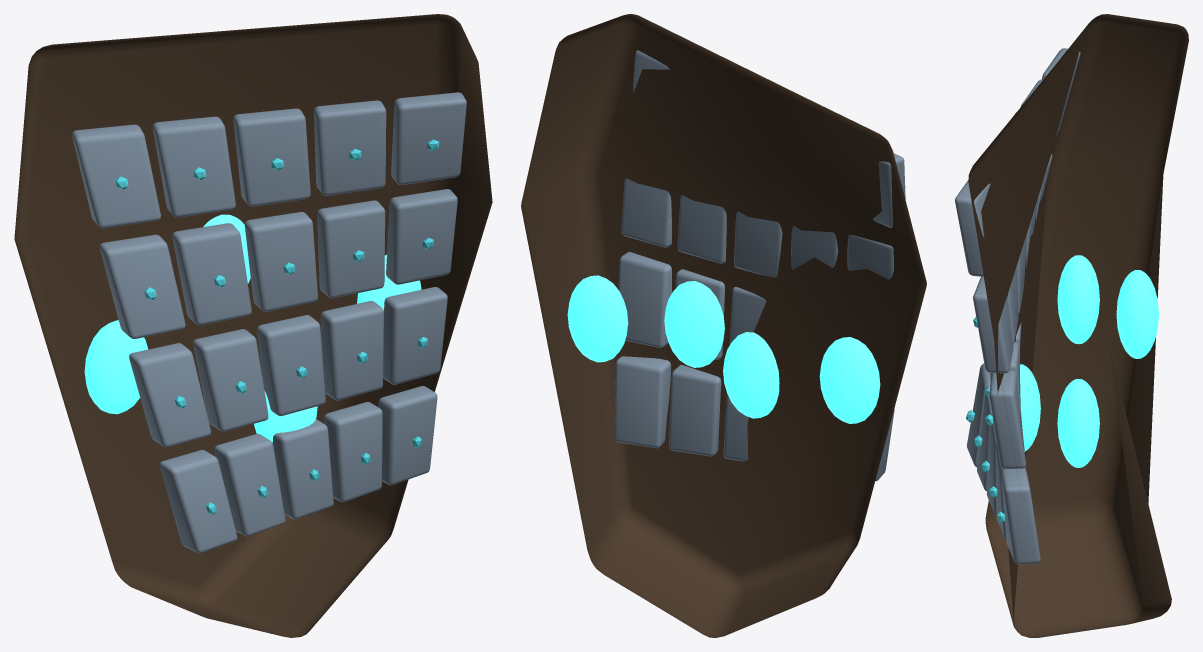
File: cuirass_v8.glb
3 views of the same model, side by side, from view 1: azimuth 30°, elevation 25°; view 2: azimuth 150°, elevation 25°; view 3: azimuth 270°, elevation 25° (orthographic). The views are drawn at different scales.
Parts seen in each view (by area): view 1: BRIGANDINE_BODY_SECONDARY, BRIGANDINE_PLATE_PRIMARY, BRIGANDINE_PLATE_PRIMARY.001, BRIGANDINE_PLATE_PRIMARY.002, BRIGANDINE_PLATE_PRIMARY.005, BRIGANDINE_PLATE_PRIMARY.003, BRIGANDINE_PLATE_PRIMARY.006, BRIGANDINE_PLATE_PRIMARY.004, BRIGANDINE_PLATE_PRIMARY.007, BRIGANDINE_PLATE_PRIMARY.008, BRIGANDINE_PLATE_PRIMARY.010, BRIGANDINE_PLATE_PRIMARY.011 (+12 smaller); view 2: BRIGANDINE_BODY_SECONDARY, BRIGANDINE_PLATE_PRIMARY.019, BRIGANDINE_PLATE_PRIMARY.018, ASCENDANT_GEM_EMISSIVE, ASCENDANT_GEM_EMISSIVE.001, ASCENDANT_GEM_EMISSIVE.002, BRIGANDINE_PLATE_PRIMARY.014, ASCENDANT_GEM_EMISSIVE.003, BRIGANDINE_PLATE_PRIMARY.009, BRIGANDINE_PLATE_PRIMARY.008, BRIGANDINE_PLATE_PRIMARY.007, BRIGANDINE_PLATE_PRIMARY.005 (+5 smaller); view 3: BRIGANDINE_BODY_SECONDARY, ASCENDANT_GEM_EMISSIVE.001, ASCENDANT_GEM_EMISSIVE, ASCENDANT_GEM_EMISSIVE.002, BRIGANDINE_PLATE_PRIMARY.019, BRIGANDINE_PLATE_PRIMARY.014, BRIGANDINE_PLATE_PRIMARY.009, BRIGANDINE_PLATE_PRIMARY.004, ASCENDANT_GEM_EMISSIVE.003, BRIGANDINE_PLATE_PRIMARY.015, BRIGANDINE_PLATE_PRIMARY.016, BRIGANDINE_PLATE_PRIMARY.017 (+5 smaller).
Boxes of the visible parts, x1,y1,x2,y2 form: BRIGANDINE_BODY_SECONDARY: (14,14,492,637); BRIGANDINE_PLATE_PRIMARY: (72,124,160,228); BRIGANDINE_PLATE_PRIMARY.001: (152,116,235,217); BRIGANDINE_PLATE_PRIMARY.002: (233,108,310,206); BRIGANDINE_PLATE_PRIMARY.005: (99,234,185,338); BRIGANDINE_PLATE_PRIMARY.003: (313,100,386,195); BRIGANDINE_PLATE_PRIMARY.006: (172,223,251,325); BRIGANDINE_PLATE_PRIMARY.004: (391,92,466,184); BRIGANDINE_PLATE_PRIMARY.007: (244,212,317,311); BRIGANDINE_PLATE_PRIMARY.008: (317,200,385,298); BRIGANDINE_PLATE_PRIMARY.010: (129,343,210,447); BRIGANDINE_PLATE_PRIMARY.011: (193,329,268,431); BRIGANDINE_BODY_SECONDARY: (521,14,926,637); BRIGANDINE_PLATE_PRIMARY.019: (614,356,671,448); BRIGANDINE_PLATE_PRIMARY.018: (669,364,721,456); ASCENDANT_GEM_EMISSIVE: (567,275,628,362); ASCENDANT_GEM_EMISSIVE.001: (664,281,724,367); ASCENDANT_GEM_EMISSIVE.002: (819,337,880,423); BRIGANDINE_PLATE_PRIMARY.014: (618,252,671,347); ASCENDANT_GEM_EMISSIVE.003: (723,332,779,418); BRIGANDINE_PLATE_PRIMARY.009: (621,178,671,247); BRIGANDINE_PLATE_PRIMARY.008: (677,195,726,263); BRIGANDINE_PLATE_PRIMARY.007: (733,211,782,277); BRIGANDINE_PLATE_PRIMARY.005: (847,234,893,279); BRIGANDINE_BODY_SECONDARY: (968,14,1188,637); ASCENDANT_GEM_EMISSIVE.001: (1116,270,1158,358); ASCENDANT_GEM_EMISSIVE: (1057,379,1099,467); ASCENDANT_GEM_EMISSIVE.002: (1057,255,1099,344); BRIGANDINE_PLATE_PRIMARY.019: (1000,468,1040,564); BRIGANDINE_PLATE_PRIMARY.014: (989,370,1026,468); BRIGANDINE_PLATE_PRIMARY.009: (973,276,1013,373); BRIGANDINE_PLATE_PRIMARY.004: (955,180,990,276); ASCENDANT_GEM_EMISSIVE.003: (1020,364,1040,451); BRIGANDINE_PLATE_PRIMARY.015: (967,363,990,467); BRIGANDINE_PLATE_PRIMARY.016: (977,394,992,491); BRIGANDINE_PLATE_PRIMARY.017: (986,423,996,515).
Bounding box in the file's own units: 1.92 × 2.5 × 0.9906.
